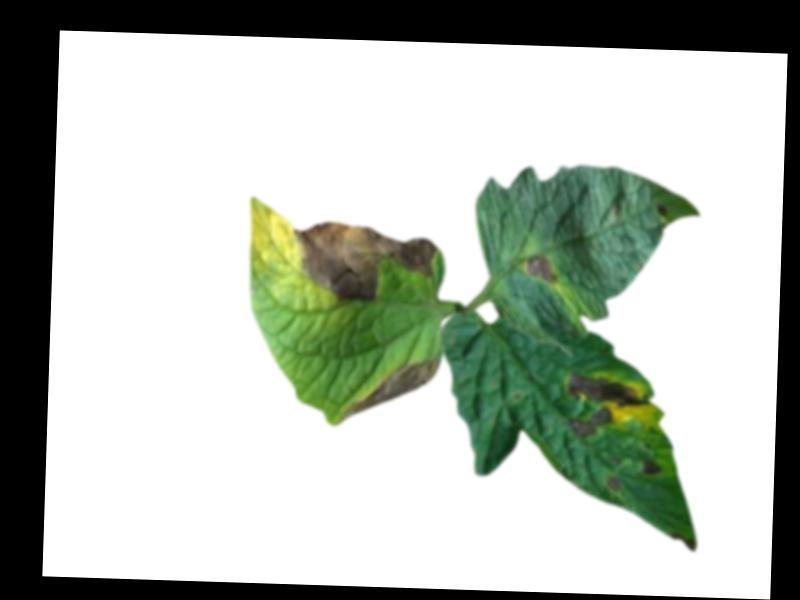Early_blight: (290, 218, 438, 308), (339, 356, 439, 425), (562, 369, 649, 440), (523, 256, 557, 286), (639, 458, 663, 477), (605, 475, 622, 493)
